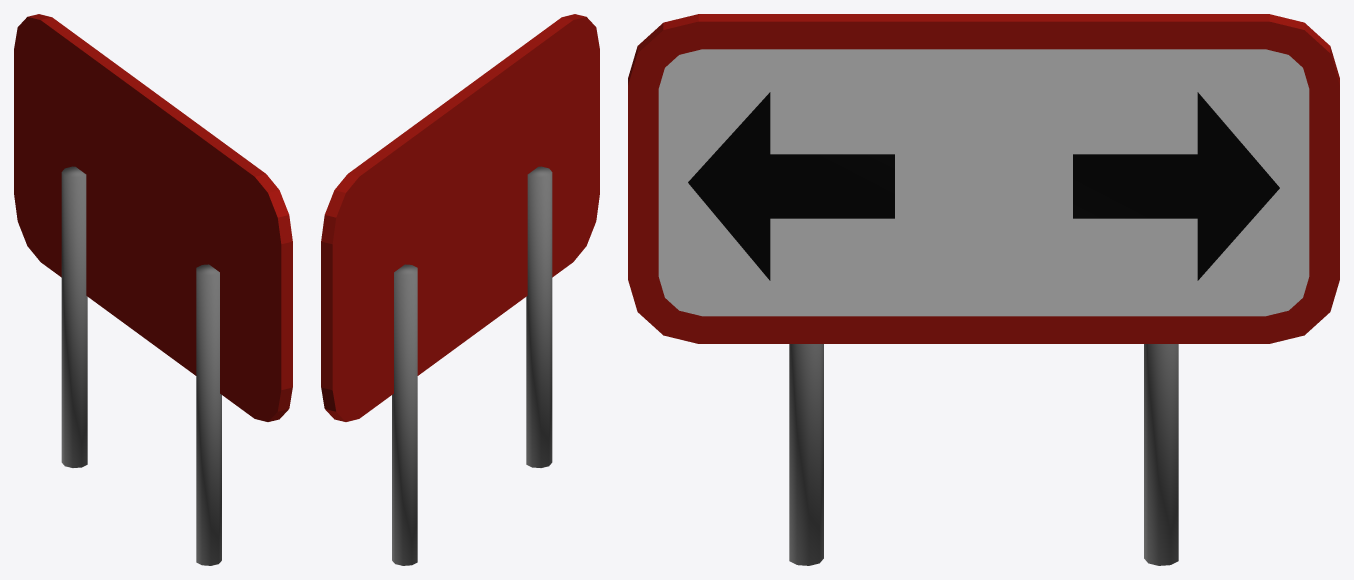
Rendered from BasicTurnSign.glb.
3 views of the same model, side by side, from view 1: azimuth 30°, elevation 25°; view 2: azimuth 150°, elevation 25°; view 3: azimuth 270°, elevation 25° (orthographic). The views are drawn at different scales.
Parts seen in each view (by area): view 1: Cube, Plane.002; view 2: Cube, Plane.002; view 3: Cube.001, Cube, Plane.001, Plane.003, Plane.002.
Boxes of the visible parts, <box> form: Cube: <box>14,14,292,421</box>; Plane.002: <box>61,166,221,565</box>; Cube: <box>321,14,599,421</box>; Plane.002: <box>392,166,552,565</box>; Cube.001: <box>658,49,1309,316</box>; Cube: <box>628,14,1339,343</box>; Plane.001: <box>688,92,894,280</box>; Plane.003: <box>1073,92,1279,280</box>; Plane.002: <box>789,344,1178,565</box>.
Size of the model in its own units: 0.2985 by 3.4 by 4.
